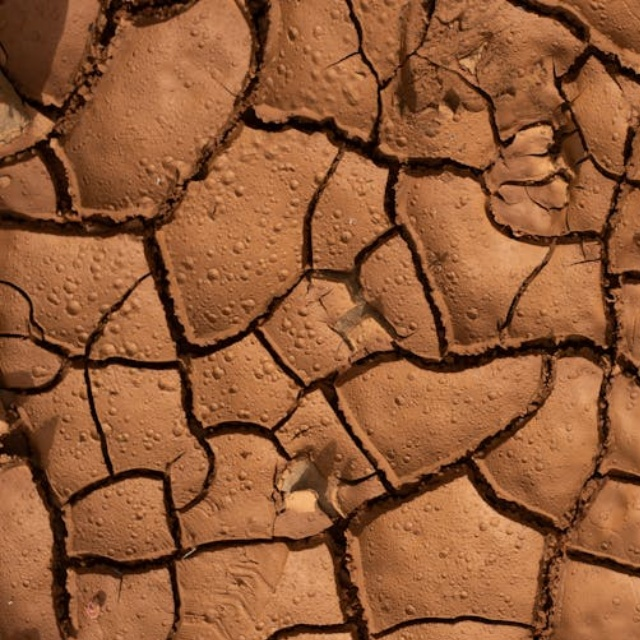深大裂缝: (189, 62, 549, 226), (431, 380, 627, 640), (272, 301, 640, 407), (234, 467, 441, 640), (0, 377, 126, 640)
